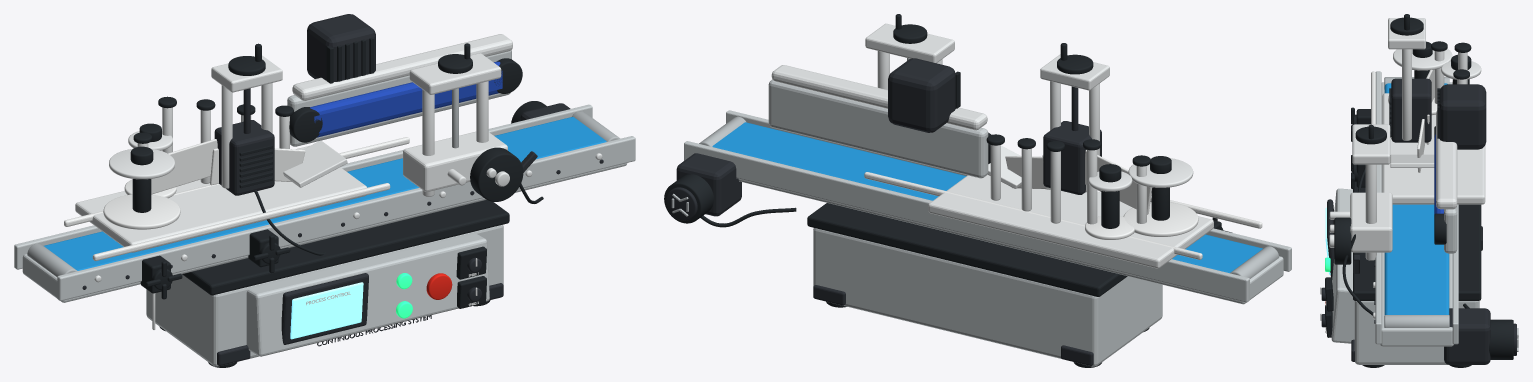
The model's file is continuous-spray-sterilizer.glb.
3 renders of one model, left to right at view 1: azimuth 30°, elevation 25°; view 2: azimuth 150°, elevation 25°; view 3: azimuth 270°, elevation 25°, orthographic. The views are drawn at different scales.
Visible parts, largest first — view 1: Conveyor Side Rail 1, Front Control Console, Black Cabinet Top, Lower Control Cabinet, Label Mechanism Base Plate, Blue Conveyor Belt, Blue Wrap Belt, Wrap Belt Top Arm, Pressure Tower Carriage, Wrap Belt Motor Housing, Touchscreen Glass, Label Head Motor (+30 smaller); view 2: Lower Control Cabinet, Conveyor Side Rail 2, Wrap Belt Stainless Backplate, Label Mechanism Base Plate, Blue Conveyor Belt, Black Cabinet Top, Wrap Belt Motor Housing, Wrap Belt Top Arm, Conveyor Chassis, Label Head Motor, Right Drive Gearbox, Pressure Tower Top (+25 smaller); view 3: Blue Conveyor Belt, Label Mechanism Base Plate, Black Cabinet Top, Wrap Belt Motor Housing, Lower Control Cabinet, Pressure Tower Carriage, Right Drive Gearbox, Conveyor Chassis, Front Control Console, Label Head Motor, Wrap Belt Top Arm, Pressure Tower Top (+27 smaller).
Part boxes in pixels (<box>): Conveyor Side Rail 1: <box>57,136,635,300</box>; Front Control Console: <box>246,234,489,356</box>; Black Cabinet Top: <box>182,200,509,295</box>; Lower Control Cabinet: <box>146,224,503,366</box>; Label Mechanism Base Plate: <box>75,145,366,252</box>; Blue Conveyor Belt: <box>44,117,606,270</box>; Blue Wrap Belt: <box>310,61,502,137</box>; Wrap Belt Top Arm: <box>292,34,512,100</box>; Pressure Tower Carriage: <box>403,131,507,191</box>; Wrap Belt Motor Housing: <box>307,14,375,81</box>; Touchscreen Glass: <box>290,282,363,339</box>; Label Head Motor: <box>214,120,274,195</box>; Lower Control Cabinet: <box>813,228,1162,366</box>; Conveyor Side Rail 2: <box>684,141,1249,302</box>; Wrap Belt Stainless Backplate: <box>768,79,988,178</box>; Label Mechanism Base Plate: <box>928,174,1213,268</box>; Blue Conveyor Belt: <box>712,122,1262,273</box>; Black Cabinet Top: <box>807,203,1127,296</box>; Wrap Belt Motor Housing: <box>888,58,955,132</box>; Wrap Belt Top Arm: <box>771,65,987,130</box>; Conveyor Chassis: <box>738,179,1283,304</box>; Label Head Motor: <box>1043,121,1101,194</box>; Right Drive Gearbox: <box>676,153,741,216</box>; Pressure Tower Top: <box>865,23,954,63</box>; Blue Conveyor Belt: <box>1384,83,1449,314</box>; Label Mechanism Base Plate: <box>1382,93,1485,204</box>; Black Cabinet Top: <box>1353,182,1481,300</box>; Wrap Belt Motor Housing: <box>1439,84,1486,149</box>; Lower Control Cabinet: <box>1354,300,1479,364</box>; Pressure Tower Carriage: <box>1350,192,1392,252</box>; Right Drive Gearbox: <box>1444,308,1490,364</box>; Conveyor Chassis: <box>1380,82,1453,346</box>; Front Control Console: <box>1331,188,1354,343</box>; Label Head Motor: <box>1391,78,1431,142</box>; Wrap Belt Top Arm: <box>1436,110,1457,209</box>; Pressure Tower Top: <box>1352,124,1390,164</box>.
Bounding box in the file's own units: 10.7 × 5.15 × 3.55.
